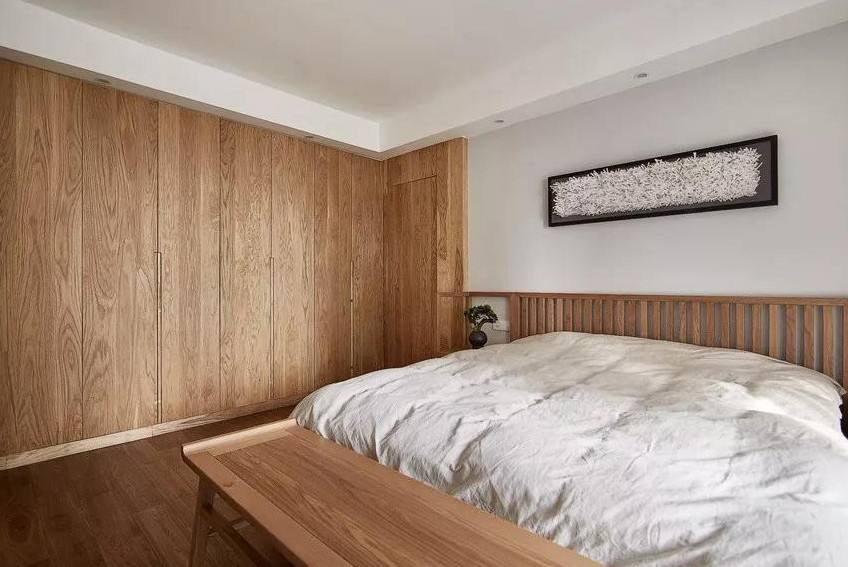床: (267, 331, 848, 564)
灯: (626, 71, 646, 86), (488, 118, 504, 129)
